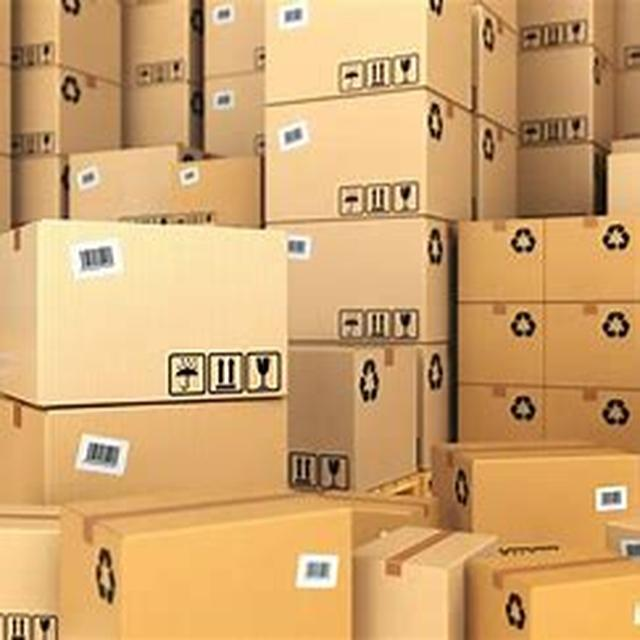box: (16, 225, 293, 398), (0, 389, 312, 523), (69, 496, 339, 640), (283, 105, 480, 223), (449, 434, 631, 556), (514, 3, 613, 205), (296, 341, 398, 502), (355, 519, 479, 640), (471, 562, 640, 640), (0, 502, 70, 638), (140, 6, 201, 158), (540, 215, 640, 302), (36, 75, 124, 166), (547, 308, 640, 388), (69, 155, 176, 224), (457, 306, 540, 383), (422, 335, 466, 467), (470, 217, 539, 298), (475, 21, 527, 125), (532, 399, 638, 450), (24, 0, 125, 53), (174, 158, 256, 223), (205, 0, 271, 65), (209, 90, 266, 156), (469, 390, 532, 446)
